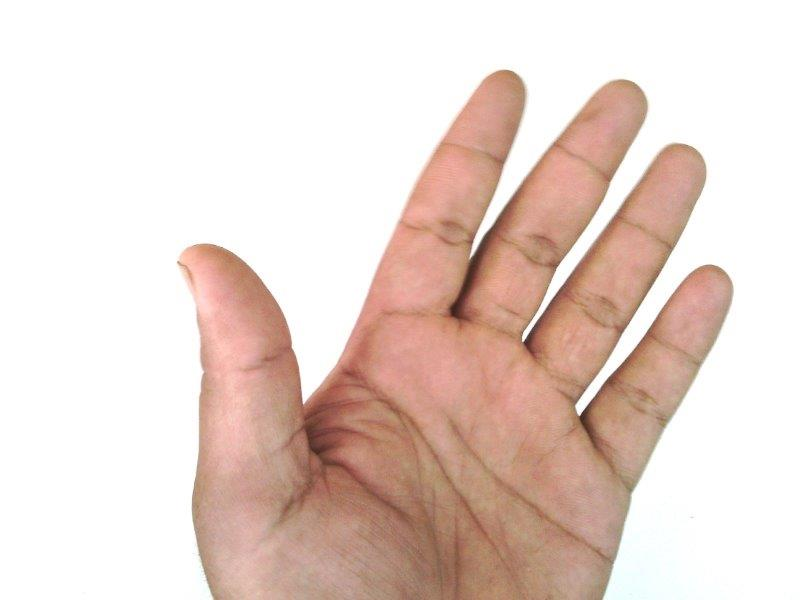hand: (178, 72, 732, 597)
